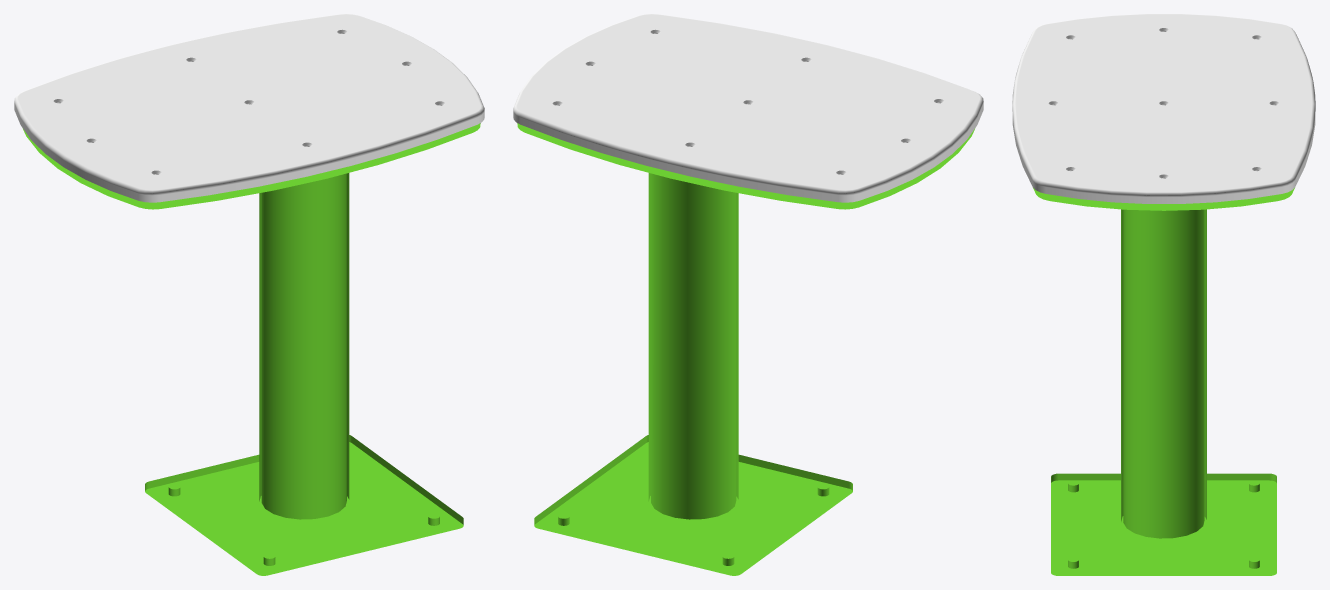
File: lepegeto_500.glb
3 renders of one model, left to right at view 1: azimuth 30°, elevation 25°; view 2: azimuth 150°, elevation 25°; view 3: azimuth 270°, elevation 25°, orthographic. The views are drawn at different scales.
Parts seen in each view (by area): view 1: cap_Solid2.002, frame_Solid1.003; view 2: cap_Solid2.002, frame_Solid1.003; view 3: cap_Solid2.002, frame_Solid1.003.
Boxes of the visible parts, x1=… form: cap_Solid2.002: x1=14, y1=14, x2=484, y2=202; frame_Solid1.003: x1=23, y1=123, x2=480, y2=575; cap_Solid2.002: x1=513, y1=14, x2=983, y2=202; frame_Solid1.003: x1=517, y1=123, x2=974, y2=575; cap_Solid2.002: x1=1012, y1=14, x2=1315, y2=203; frame_Solid1.003: x1=1033, y1=188, x2=1294, y2=575.
Bounding box in the file's own units: 0.4965 × 0.5108 × 0.3513.
